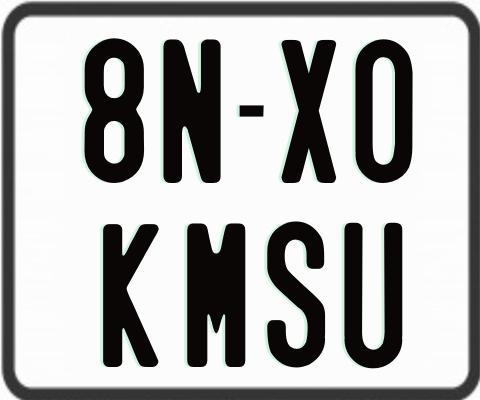0: (355, 38, 417, 187)
8: (84, 35, 148, 181)
K: (103, 224, 165, 370)
M: (186, 222, 245, 372)
N: (163, 38, 222, 188)
S: (266, 221, 330, 368)
U: (343, 222, 404, 373)
X: (278, 39, 333, 186)
